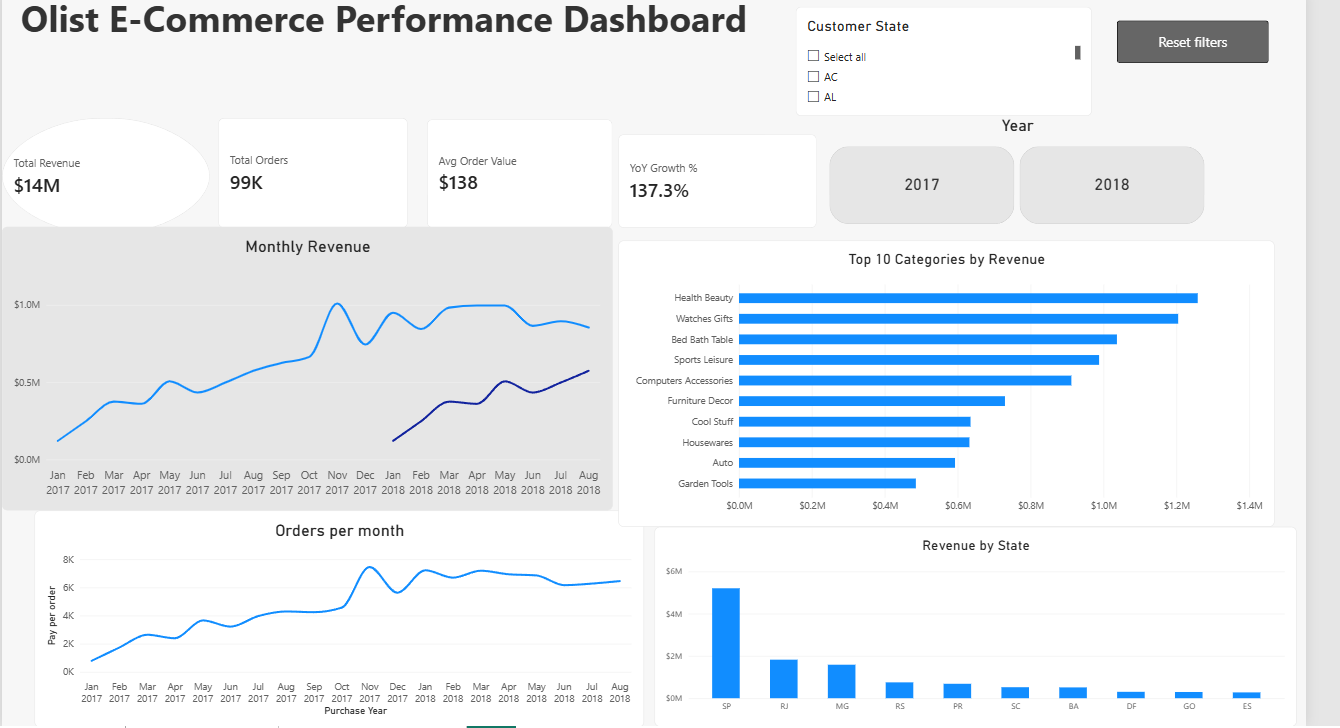

This screenshot's page, from the dashboard's own definition file:
{"tool":"powerbi","page":{"name":"Sales Overview","canvas":[1920,1080],"ordinal":0},"visuals":[{"type":"lineChart","title":"Orders per month ","fields":{"Category":["Calendar.Month Year"],"Y":["My Measures.Total Orders"]},"box":[48,761.7,897.4,319.3],"z":0},{"type":"cardVisual","fields":{"Data":["My Measures.Total Revenue"]},"box":[0,183.7,306.8,171.1],"z":1000},{"type":"cardVisual","fields":{"Data":["My Measures.Total Orders"]},"box":[319.3,183.7,279.7,162.8],"z":2000},{"type":"cardVisual","fields":{"Data":["My Measures.Avg Order Value"]},"box":[626.1,185.7,273.4,160.7],"z":3000},{"type":"cardVisual","fields":{"Data":["My Measures.YoY Growth %"]},"box":[907.4,208,292.6,138],"z":4000},{"type":"lineChart","title":"Monthly Revenue","fields":{"Category":["Calendar.Month Year"],"Y":["My Measures.Total Revenue","My Measures.Revenue LY"]},"box":[0,344.3,899.5,417.4],"z":5000},{"type":"clusteredBarChart","title":"Top 10 Categories by Revenue","fields":{"Category":["products.product_Category"],"Y":["My Measures.Total Revenue"]},"box":[907.8,365.2,966.3,421.6],"z":6000},{"type":"clusteredColumnChart","title":"Revenue by State","fields":{"Category":["Customers.customer_state"],"Y":["My Measures.Total Revenue"]},"box":[960,786.8,945.4,294.3],"z":7000},{"type":"advancedSlicerVisual","fields":{"Values":["Calendar.Year"]},"box":[1218.4,180.4,554,160.1],"z":8000},{"type":"listSlicer","title":"Customer State","fields":{"Values":["Customers.customer_state"]},"box":[1168.7,20.9,436.2,160.7],"z":9000},{"type":"actionButton","box":[1642.4,39.7,223.3,62.6],"z":10000},{"type":"textbox","box":[0,0,1124.9,183.7],"z":11000}]}

Visuals, with their boxes on the page's 1920x1080 design canvas (x1, y1, x2, y2). These are canvas units, not pixel positions in the 1340x728 screenshot, which may show the page scaled, cropped or inside an application window:
"Orders per month " lineChart: bbox(48, 762, 945, 1081)
cardVisual - My Measures.Total Revenue: bbox(0, 184, 307, 355)
cardVisual - My Measures.Total Orders: bbox(319, 184, 599, 346)
cardVisual - My Measures.Avg Order Value: bbox(626, 186, 900, 346)
cardVisual - My Measures.YoY Growth %: bbox(907, 208, 1200, 346)
"Monthly Revenue" lineChart: bbox(0, 344, 900, 762)
"Top 10 Categories by Revenue" clusteredBarChart: bbox(908, 365, 1874, 787)
"Revenue by State" clusteredColumnChart: bbox(960, 787, 1905, 1081)
advancedSlicerVisual - Calendar.Year: bbox(1218, 180, 1772, 340)
"Customer State" listSlicer: bbox(1169, 21, 1605, 182)
actionButton: bbox(1642, 40, 1866, 102)
textbox: bbox(0, 0, 1125, 184)
